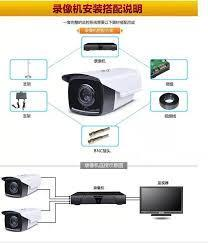tutu: (62, 67, 138, 115)
